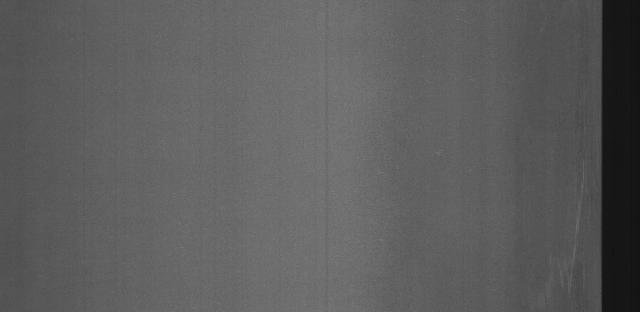silk_spot: (563, 125, 596, 240), (541, 244, 588, 309)
